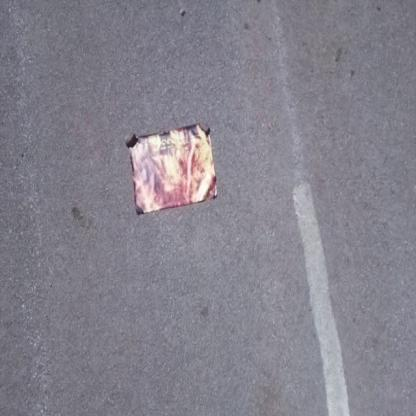fire-poster: (124, 121, 218, 216)
